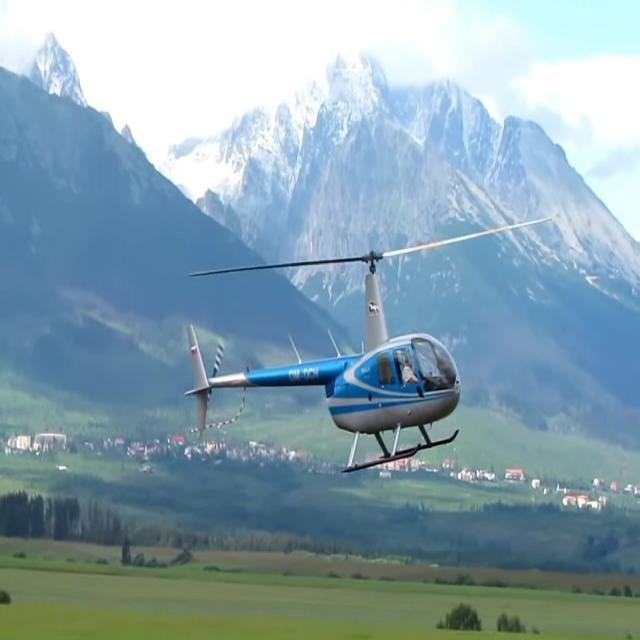CIV_HELO: (181, 246, 463, 476)
